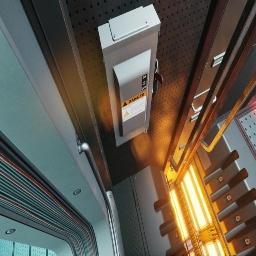SafetySwitchPanel ,: (97, 4, 163, 147)
